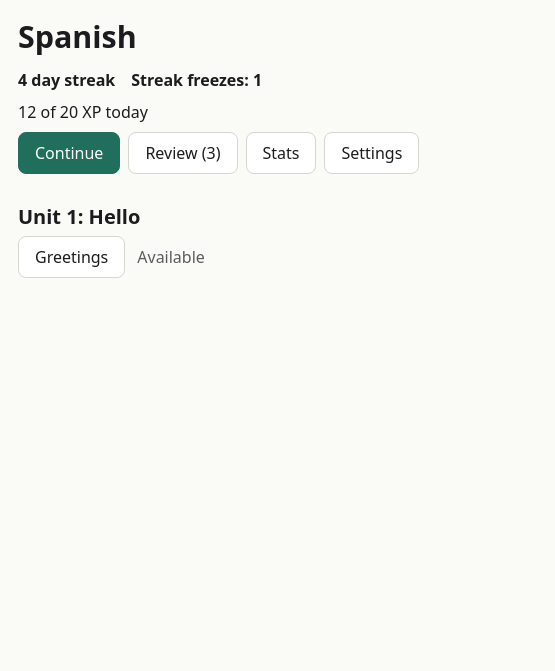
Test: Back to my path on a long screen › Settings has Back to my path at its top and at its foot
Expected: the heading "Spanish" is shown, [18,16,137,57]
Click the button "Settings": (372, 153) [324,132,419,174]
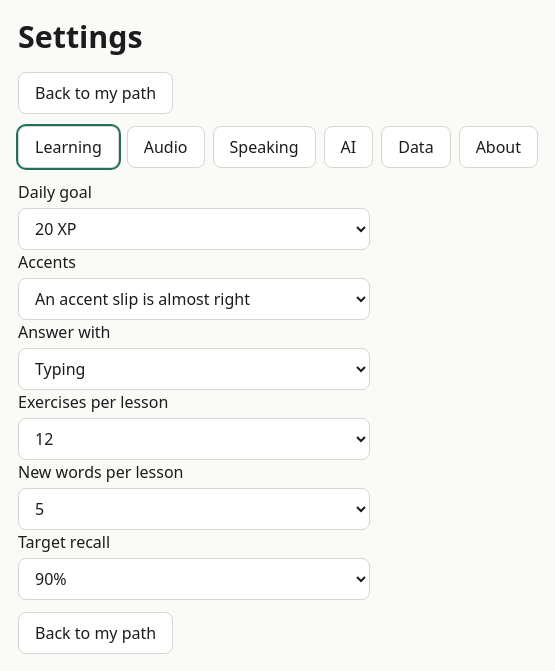
Now the heading "Settings" is shown, box [18,16,143,57]
Now the heading "Spanish" is gone
Now the number of buttons "Back to my path" is 2
Click the 1st button "Back to my path": (96, 93) [18,72,173,114]
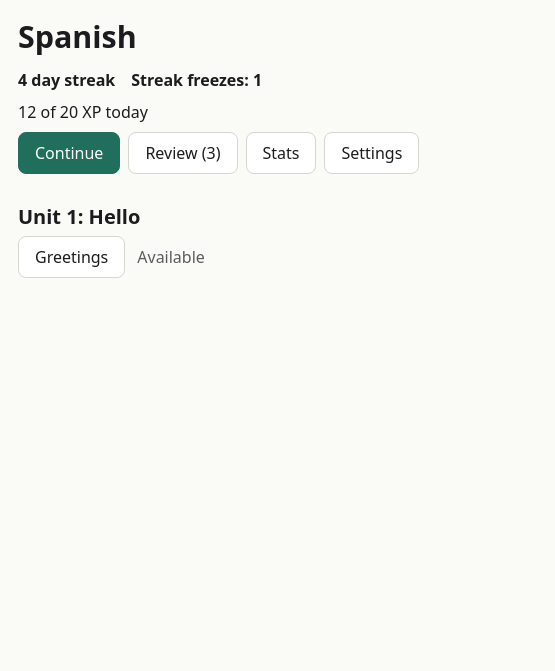
Now the heading "Spanish" is shown, box [18,16,137,57]
